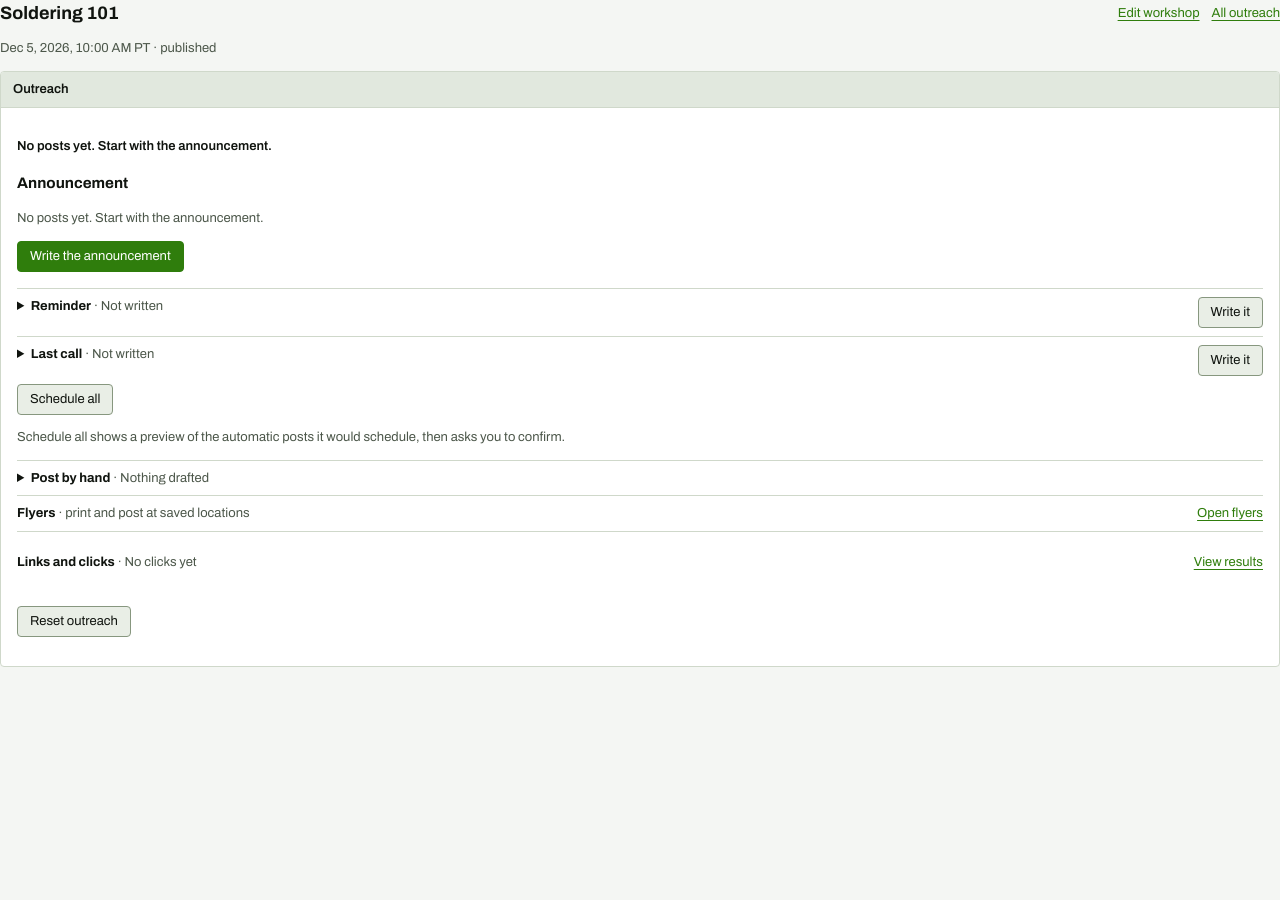
Test: OutreachWorkshop › clears the "Outreach was reset" note on the next state change (#0593)
This screenshot has width=1280, height=900.
Click the button "Reset outreach". click: (74, 622)
box: x1=17 y1=606 x2=131 y2=637
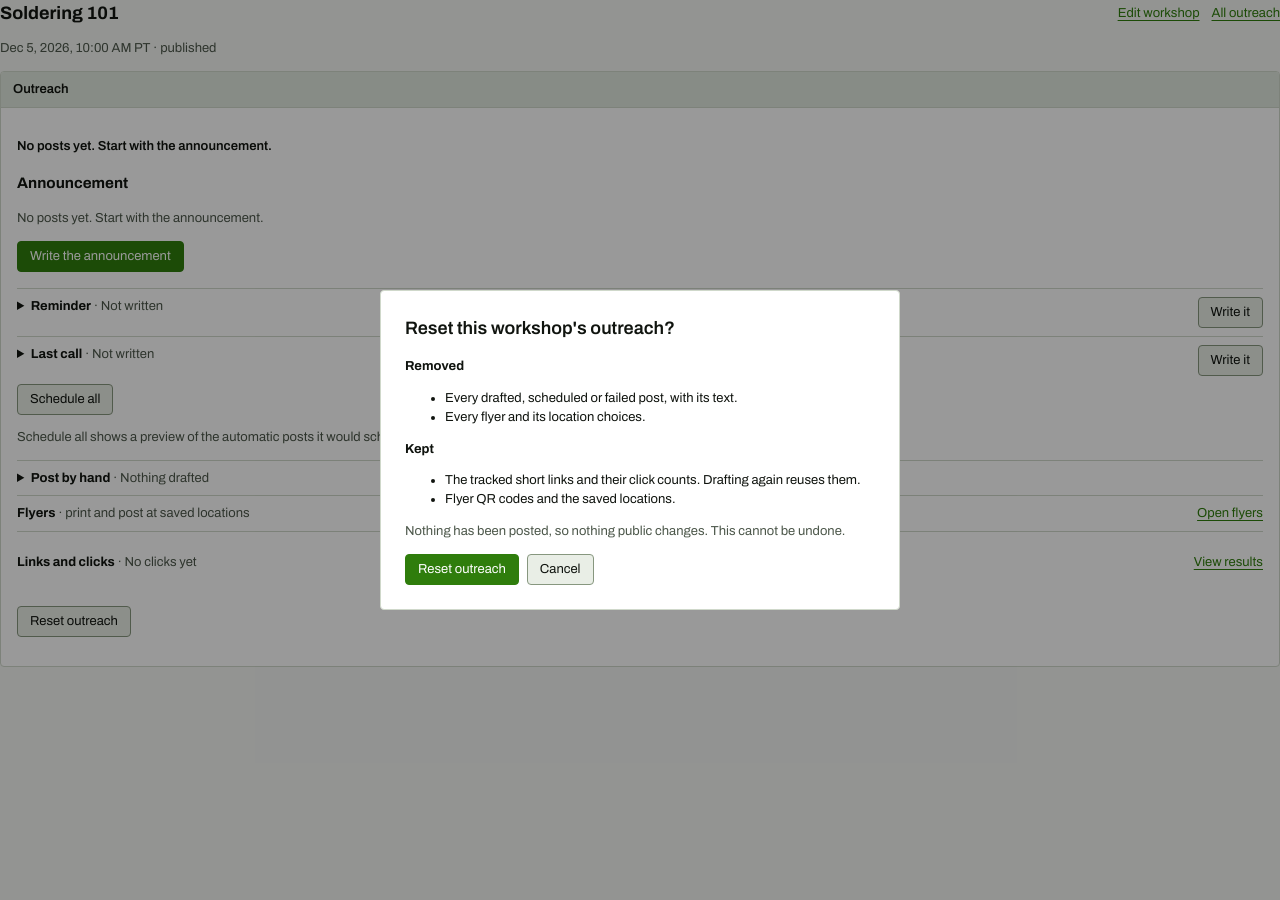
Click the button "Reset outreach". click: (462, 570)
box: x1=405 y1=554 x2=519 y2=585
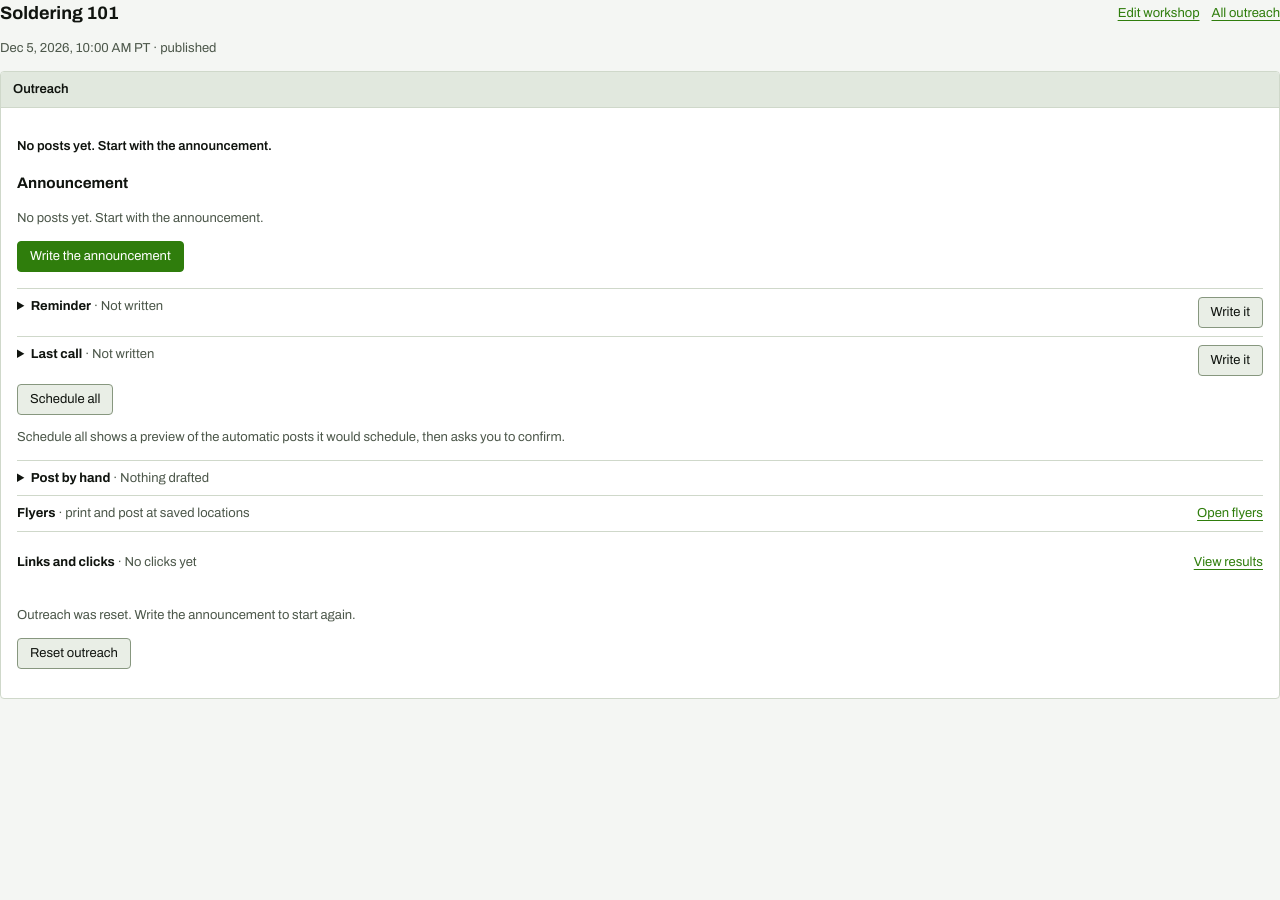
Expected: the text "Outreach was reset. Write the announcement to start again." is shown, x1=17 y1=608 x2=356 y2=622
Click the button "Schedule all". click: (65, 399)
box: x1=17 y1=384 x2=113 y2=415
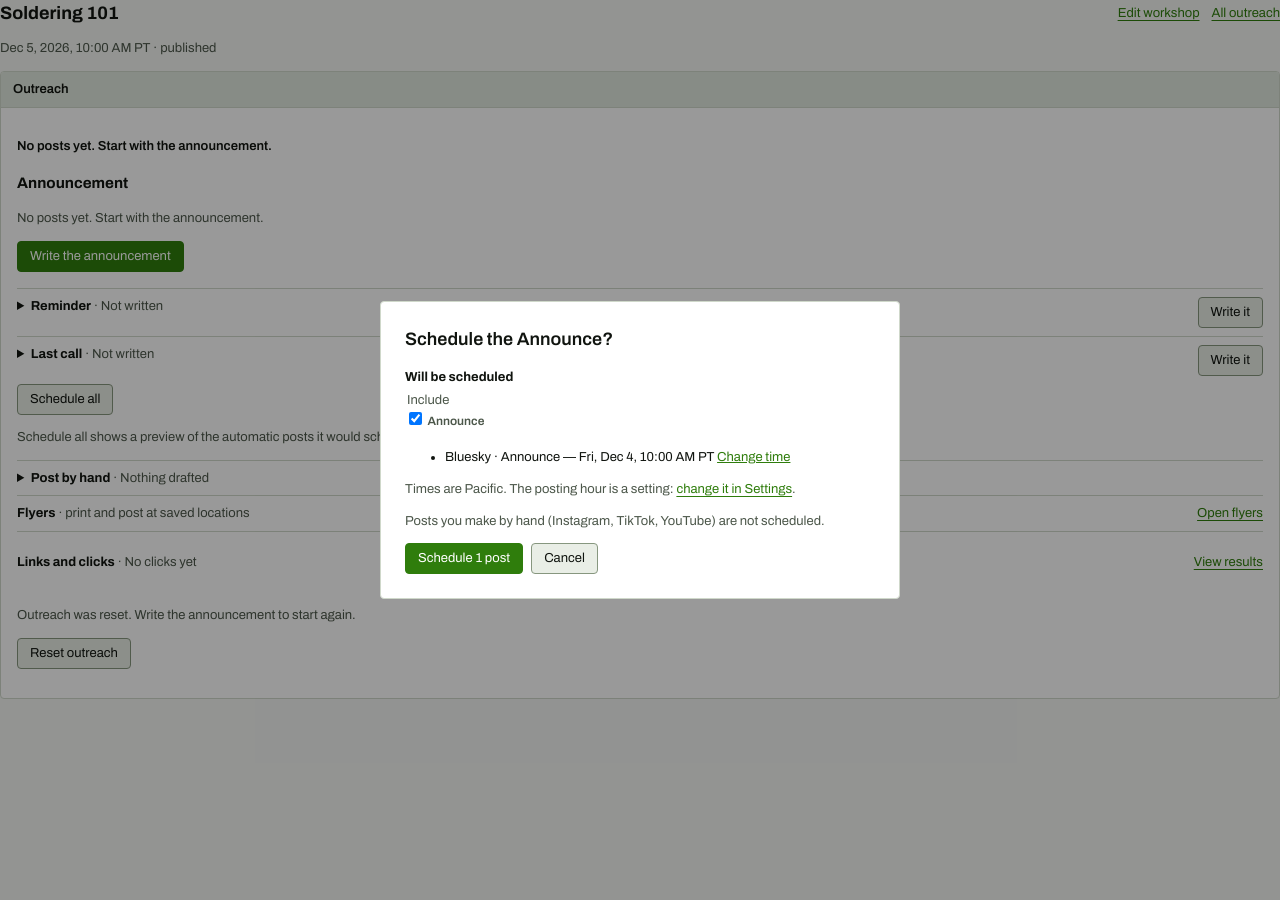
Expected: the text "Outreach was reset. Write the announcement to start again." is shown, x1=17 y1=608 x2=356 y2=622
Click the button "Schedule 1 post". click: (464, 559)
box: x1=405 y1=543 x2=523 y2=574
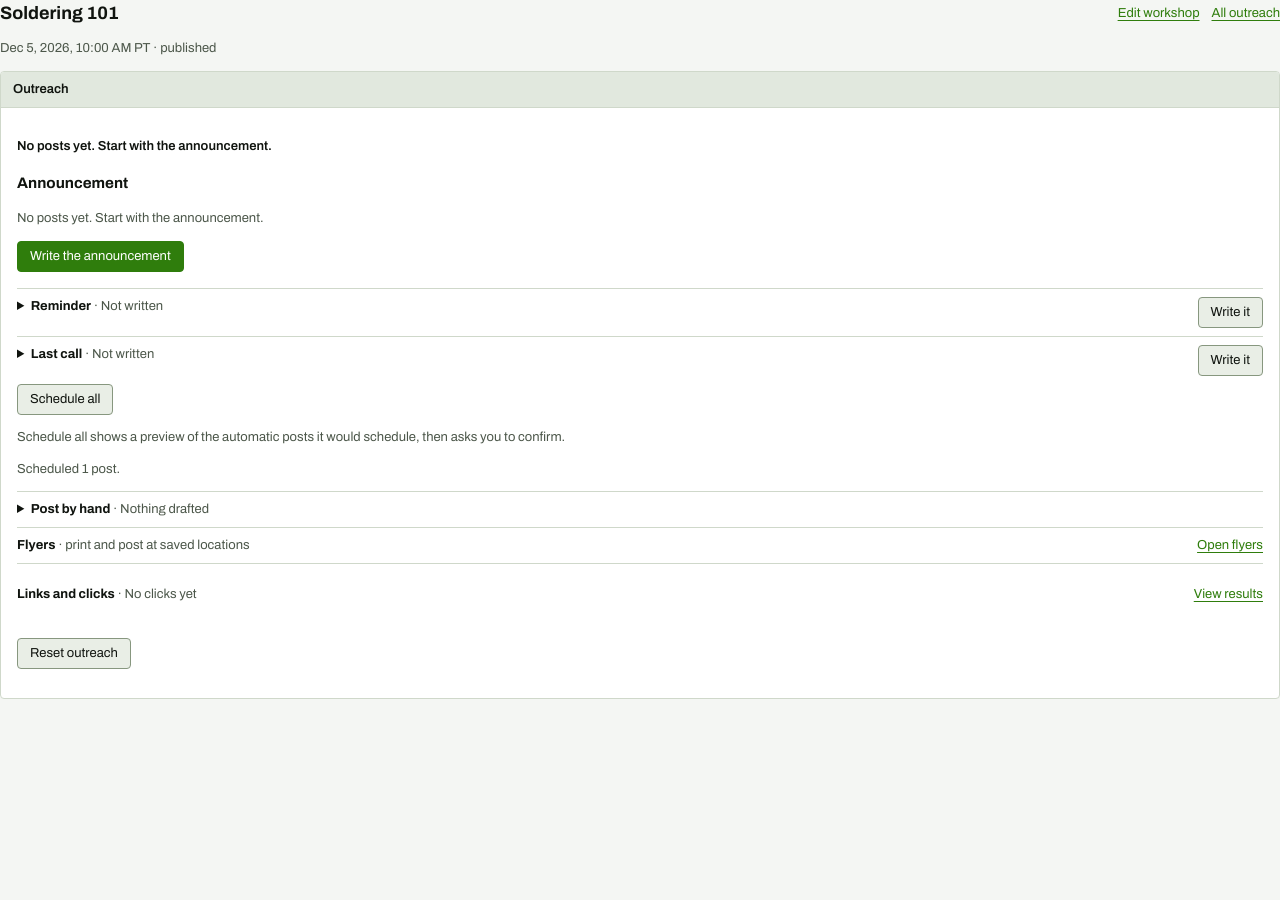
Expected: the text "Outreach was reset" is gone
